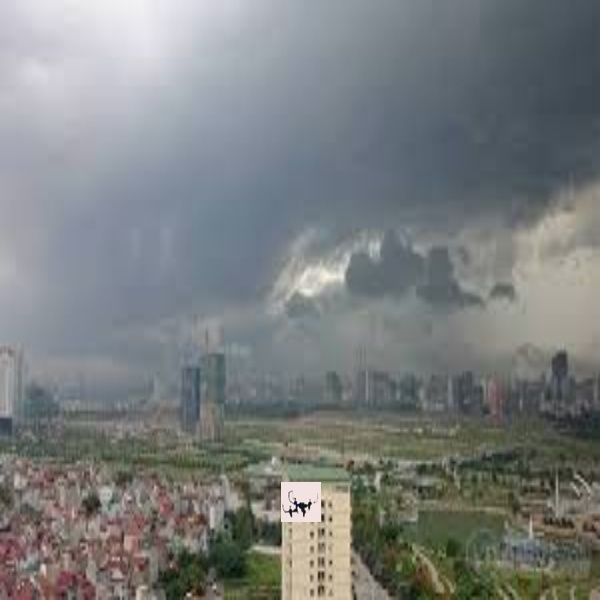drone: (281, 482, 315, 516)
